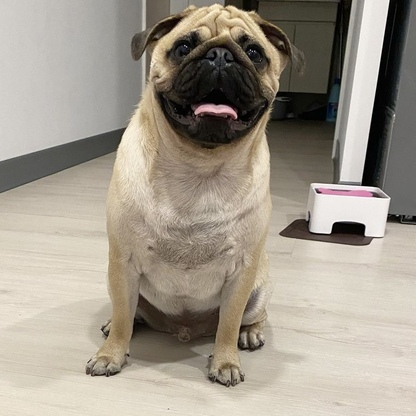Pug: (75, 1, 306, 390)
